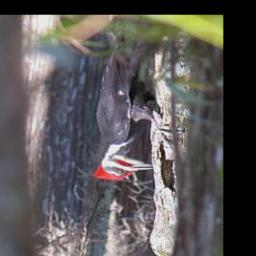Woodpecker: (90, 24, 186, 182)
